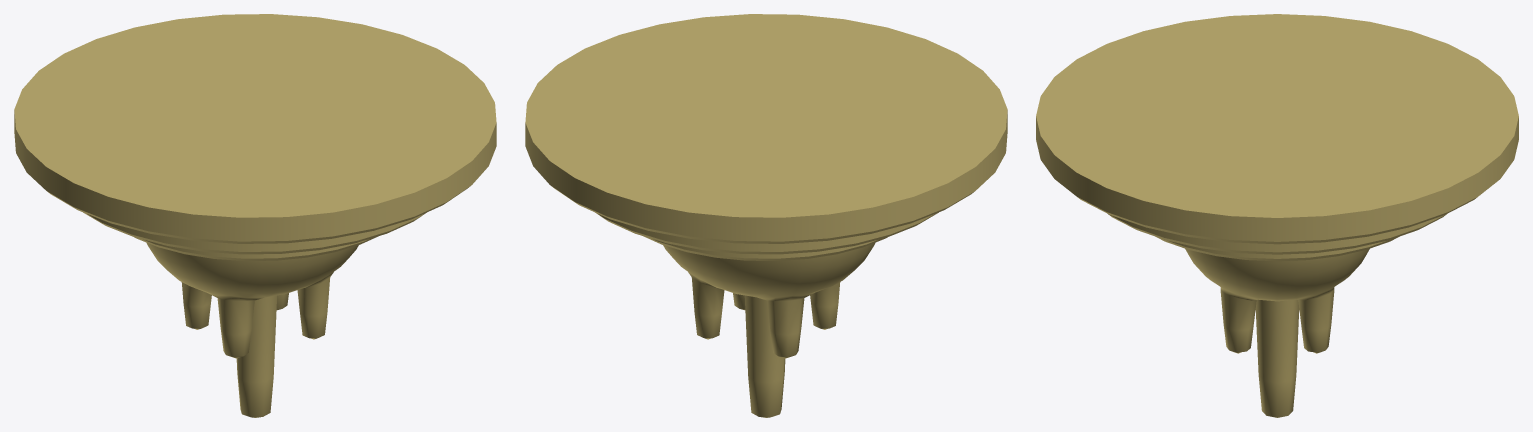
Rendered from GoldenTeat.fbx.
The picture shows the model from 3 angles, left to right: view 1: azimuth 30°, elevation 25°; view 2: azimuth 150°, elevation 25°; view 3: azimuth 270°, elevation 25°; orthographic projection.
Parts seen in each view (by area): view 1: udder; view 2: udder; view 3: udder.
Boxes of the visible parts, x1,y1,x2,y2 form: udder: [14, 14, 496, 417]; udder: [525, 14, 1007, 417]; udder: [1036, 14, 1518, 417].
Bounding box in the file's own units: 0.0386 × 0.0267 × 0.0386.
